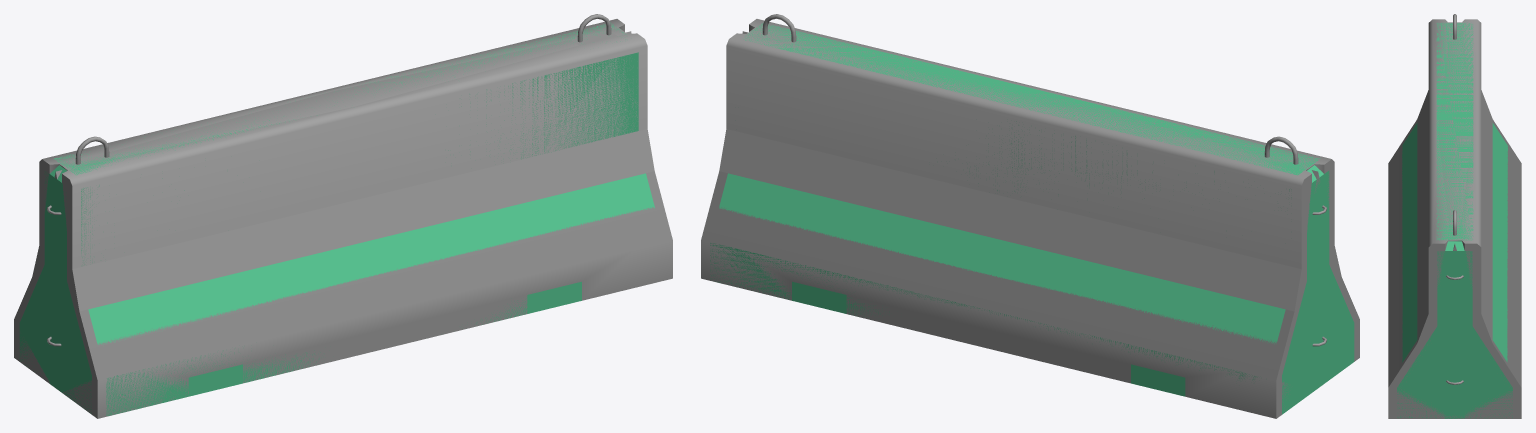
Rendered from concrete_road_barrier_a.dae.
3 views of the same model, side by side, from view 1: azimuth 30°, elevation 25°; view 2: azimuth 150°, elevation 25°; view 3: azimuth 270°, elevation 25° (orthographic). The views are drawn at different scales.
Parts seen in each view (by area): view 1: tree_oak_bush_a200, tree_oak_bush_a80, Colmesh-1, tree_oak_bush_a40; view 2: tree_oak_bush_a200, tree_oak_bush_a80, Colmesh-1, tree_oak_bush_a40; view 3: Colmesh-1, tree_oak_bush_a80, tree_oak_bush_a200, tree_oak_bush_a40.
Boxes of the visible parts, x1,y1,x2,y2 form: tree_oak_bush_a200: (39, 14, 647, 392); tree_oak_bush_a80: (14, 24, 672, 418); Colmesh-1: (19, 22, 654, 415); tree_oak_bush_a40: (32, 31, 654, 417); tree_oak_bush_a200: (726, 14, 1334, 395); tree_oak_bush_a80: (701, 24, 1359, 418); Colmesh-1: (710, 23, 1354, 414); tree_oak_bush_a40: (719, 31, 1357, 417); Colmesh-1: (1397, 22, 1512, 418); tree_oak_bush_a80: (1388, 22, 1521, 418); tree_oak_bush_a200: (1428, 14, 1481, 384); tree_oak_bush_a40: (1388, 90, 1521, 418).
Bounding box in the file's own units: 3.08 × 0.7541 × 1.2.
